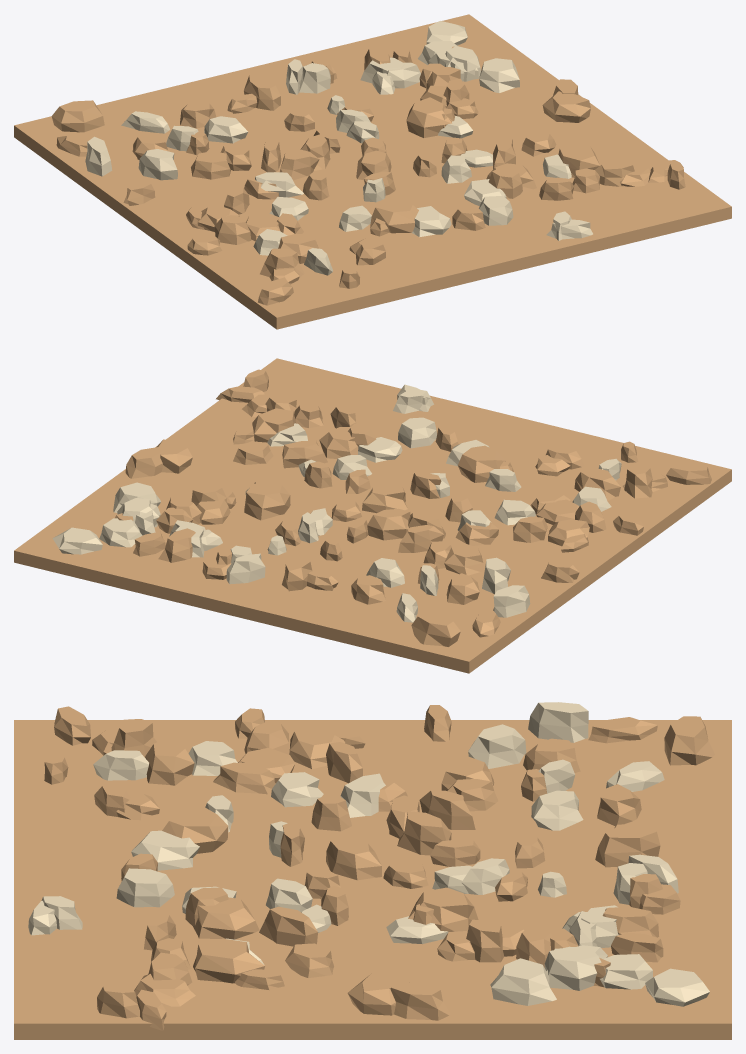
Rendered from desert-canyons-and-oases-desert-pavement-c5dbe38f__20938.glb.
3 renders of one model, top to bottom at view 1: azimuth 30°, elevation 25°; view 2: azimuth 150°, elevation 25°; view 3: azimuth 270°, elevation 25°, orthographic. The views are drawn at different scales.
Visible parts, largest first — view 1: desert-pavement; view 2: desert-pavement; view 3: desert-pavement.
Boxes of the visible parts, x1,y1,x2,y2 form: desert-pavement: (14,14,731,329); desert-pavement: (14,358,731,673); desert-pavement: (14,702,731,1039).
Bounding box in the file's own units: 4.06 × 0.2755 × 4.
